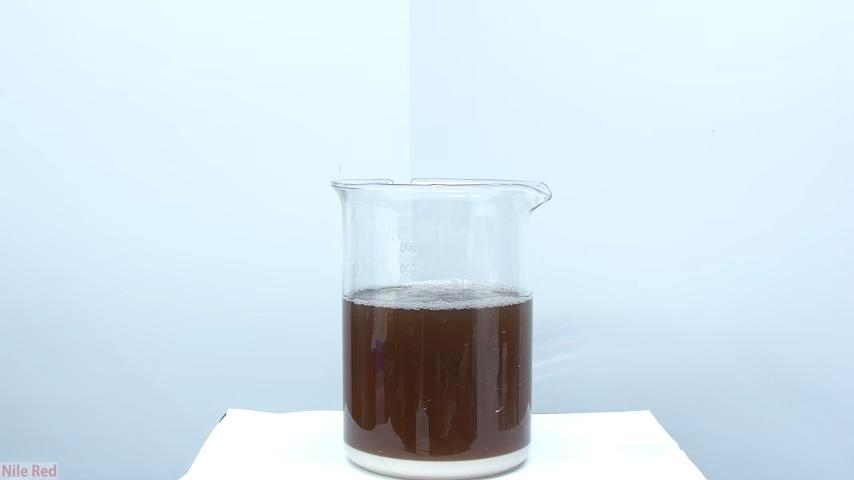Beaker: (318, 172, 567, 473)
